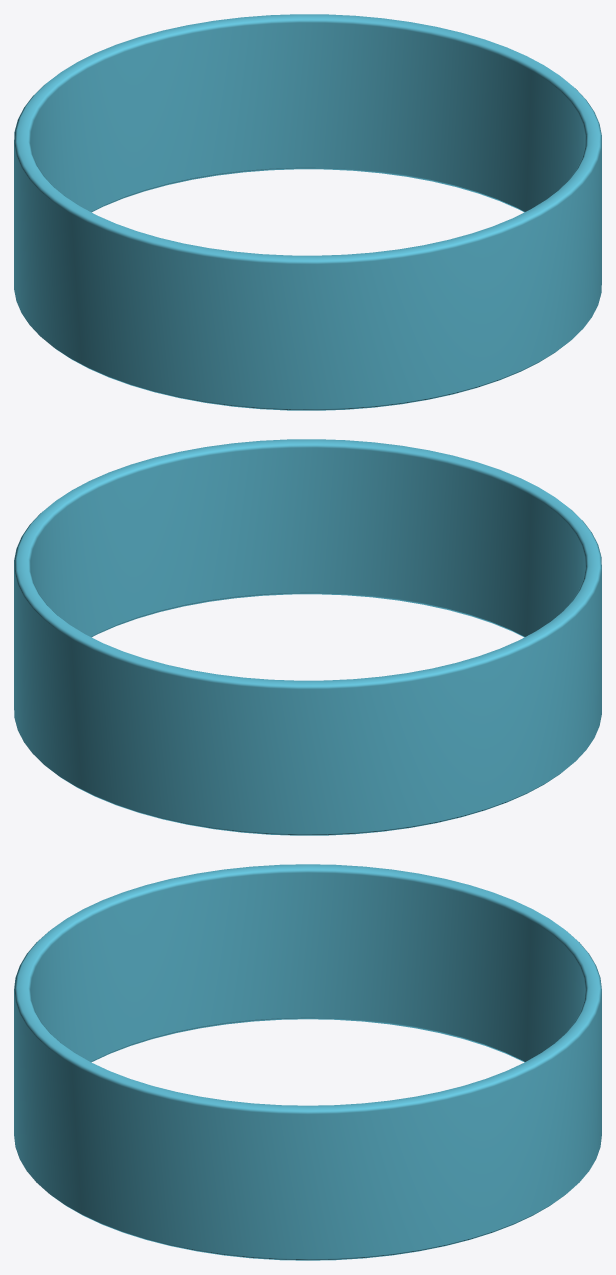
3 views of the same model, one above another, from view 1: azimuth 30°, elevation 25°; view 2: azimuth 150°, elevation 25°; view 3: azimuth 270°, elevation 25° (orthographic).
Parts seen in each view (by area): view 1: seal_body; view 2: seal_body; view 3: seal_body.
Part boxes in pixels (x1,y1,x2,y2): seal_body: (14,14,601,410); seal_body: (14,439,601,835); seal_body: (14,864,601,1260).
Size of the model in its own units: 0.053 by 0.015 by 0.053.
